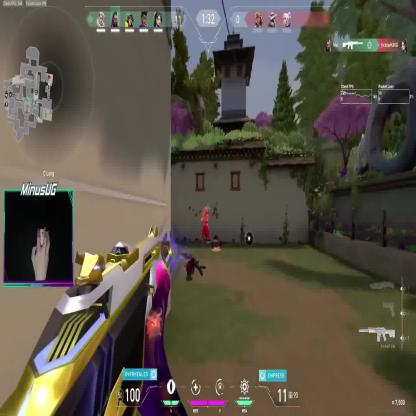enemy: (200, 205, 212, 248)
enemy_head: (203, 205, 209, 214)
